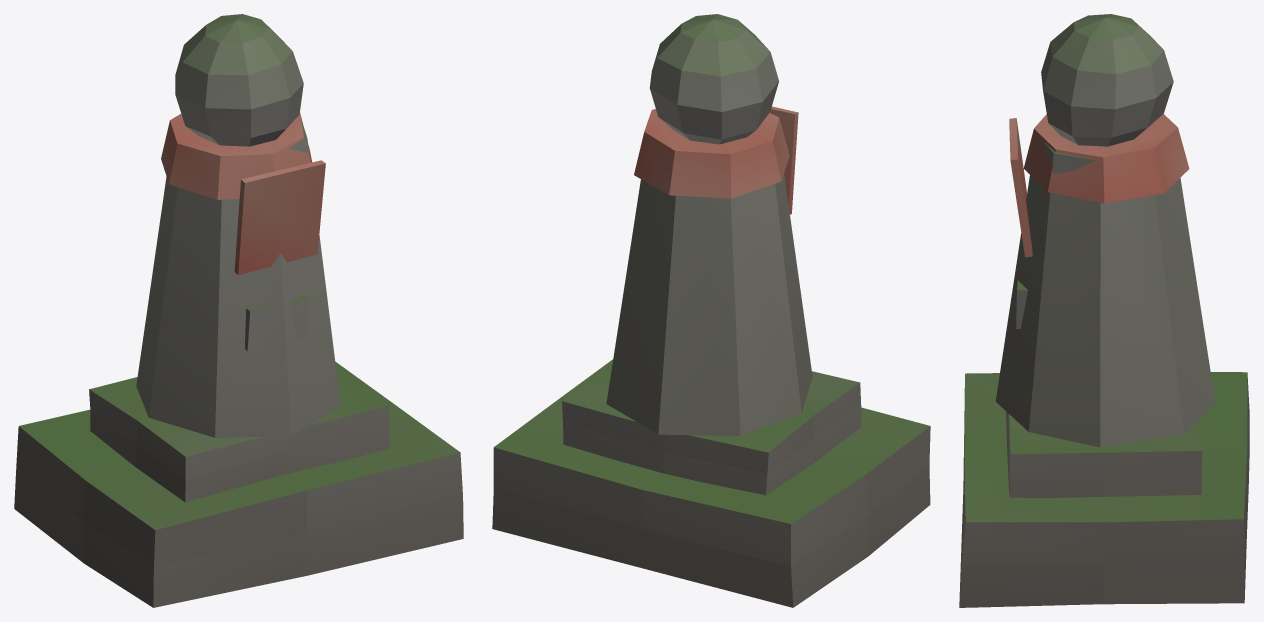
File: jizo.glb
The picture shows the model from 3 angles, left to right: view 1: azimuth 30°, elevation 25°; view 2: azimuth 150°, elevation 25°; view 3: azimuth 270°, elevation 25°; orthographic projection. The views are drawn at different scales.
Visible parts, largest first — view 1: jizo_stone, jizo_bib; view 2: jizo_stone, jizo_bib; view 3: jizo_stone, jizo_bib.
Boxes of the visible parts, x1,y1,x2,y2 form: jizo_stone: (14, 14, 463, 607); jizo_bib: (161, 113, 325, 275); jizo_stone: (492, 14, 930, 607); jizo_bib: (634, 106, 798, 214); jizo_stone: (959, 14, 1249, 607); jizo_bib: (1009, 114, 1189, 257).
Bounding box in the file's own units: 0.569 × 0.8818 × 0.452.
